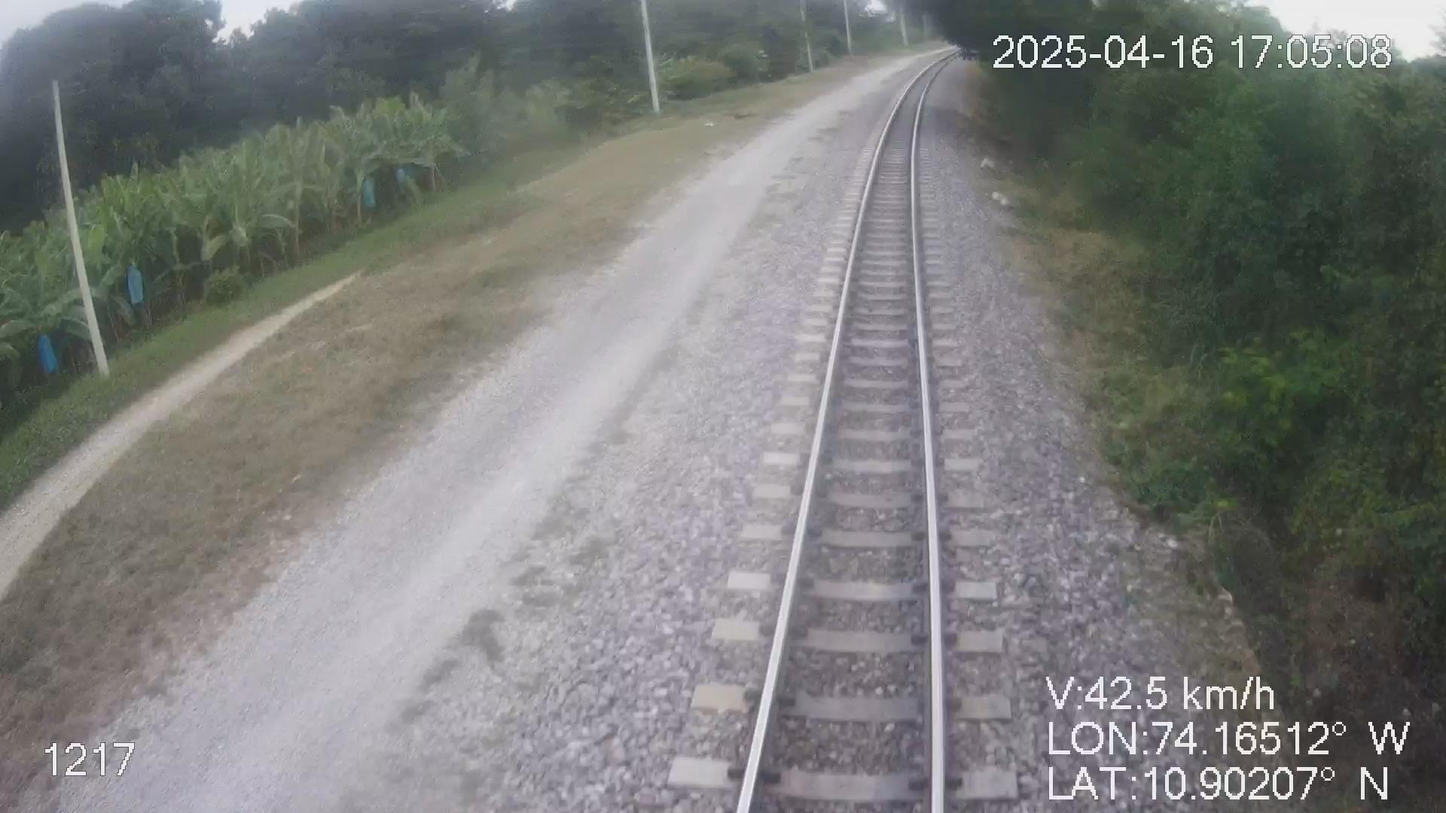Pasto: (0, 0, 906, 812), (937, 0, 1445, 812)
